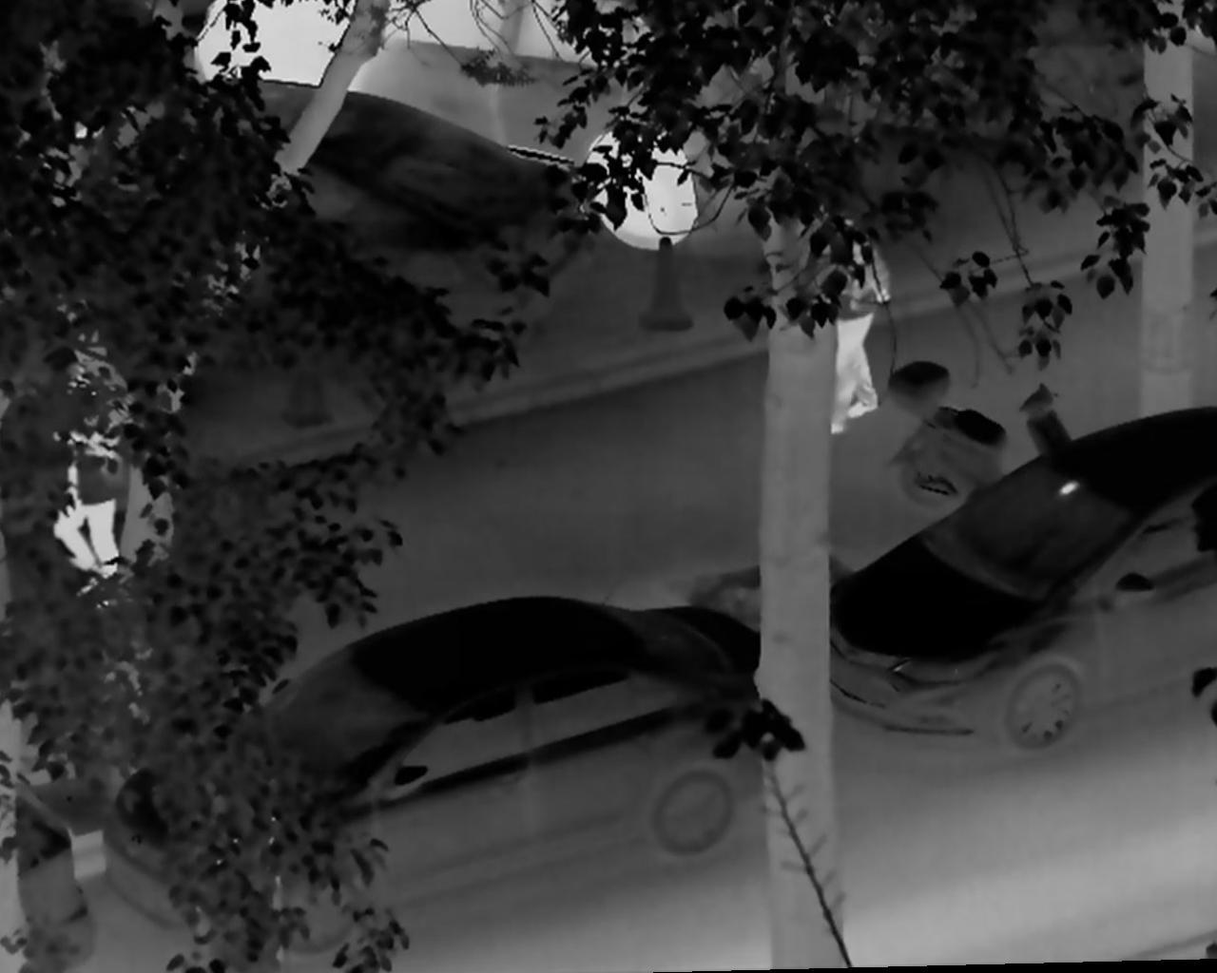person: (37, 354, 126, 605), (830, 204, 897, 439)
